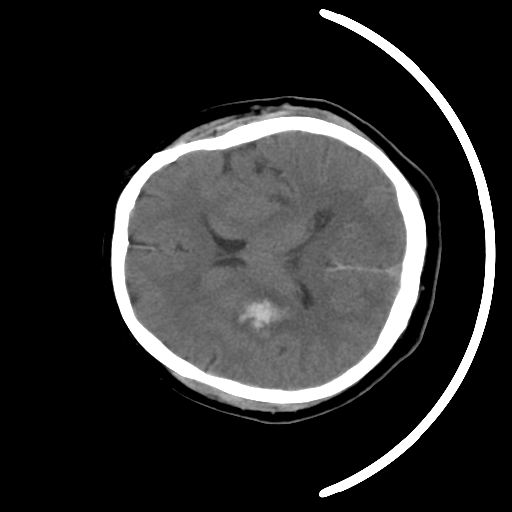a: (221, 277, 308, 354)
